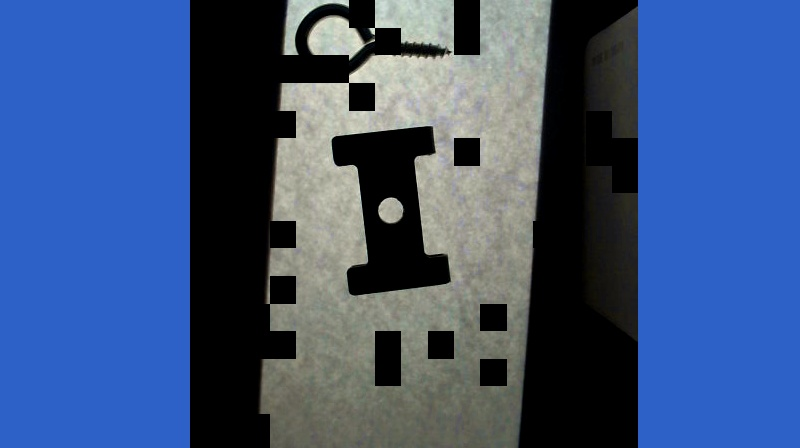O001: (294, 0, 454, 80)
O002: (330, 126, 450, 294)
